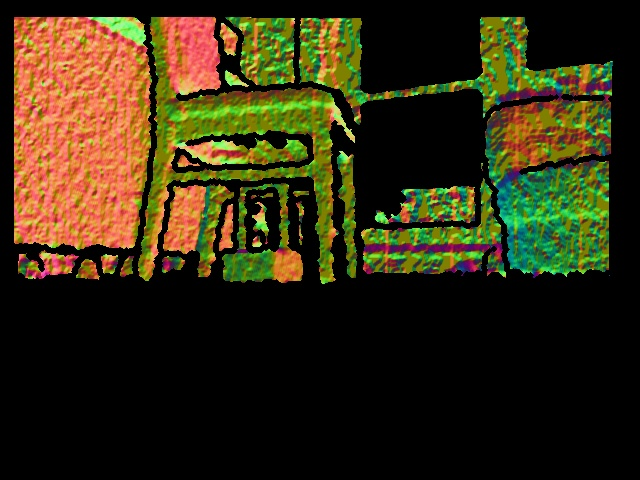station: (221, 181, 305, 283)
